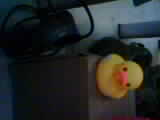duck: (90, 39, 156, 103)
